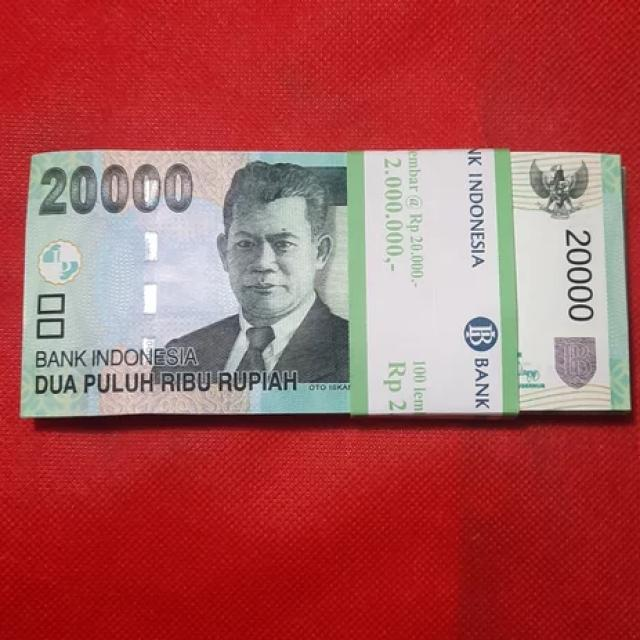dua puluh ribu rupiah: (20, 151, 632, 417)
